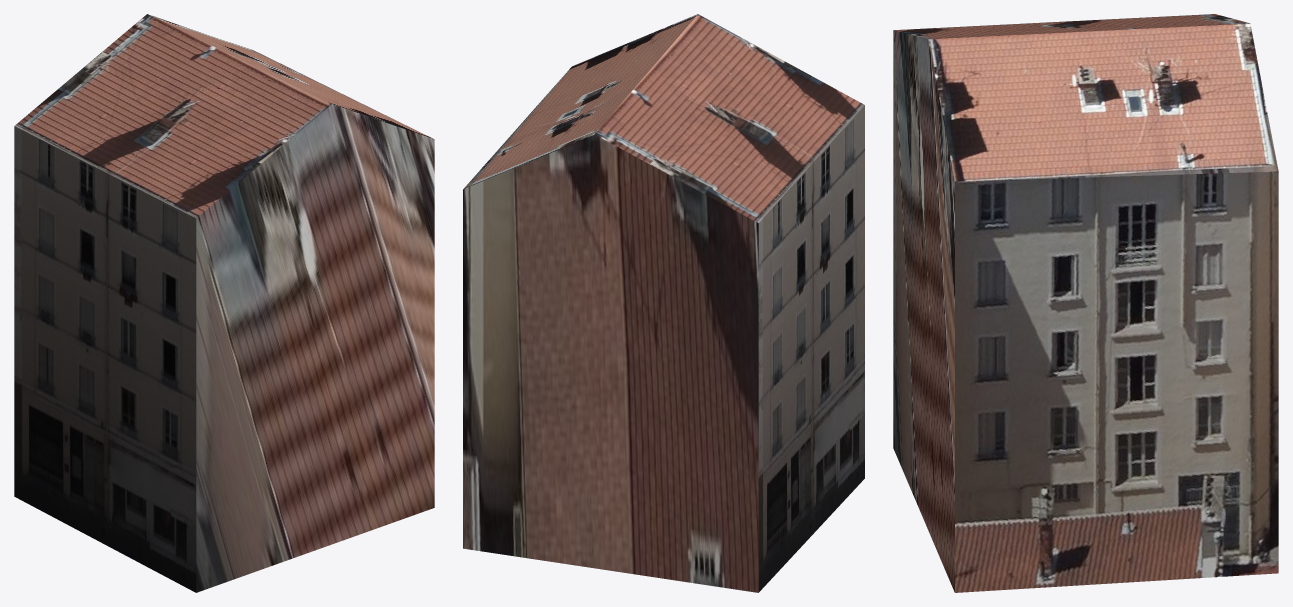
The picture shows the model from 3 angles, left to right: view 1: azimuth 30°, elevation 25°; view 2: azimuth 150°, elevation 25°; view 3: azimuth 270°, elevation 25°; orthographic projection. The views are drawn at different scales.
Parts seen in each view (by area): view 1: Z_UP; view 2: Z_UP; view 3: Z_UP.
Boxes of the visible parts, x1,y1,x2,y2 form: Z_UP: (14, 14, 434, 592); Z_UP: (463, 14, 864, 592); Z_UP: (893, 14, 1278, 592).
Size of the model in its own units: 16.43 by 22.76 by 16.18.
Materials: 2 (1 with a texture image).
